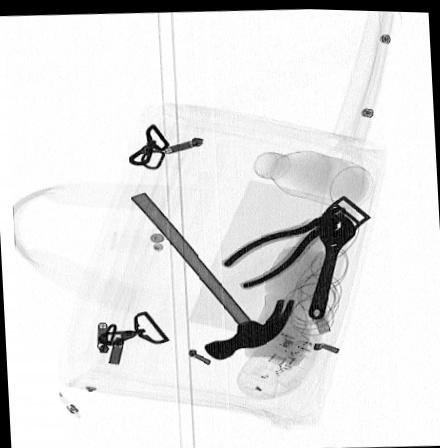Hammer: (127, 189, 300, 359)
Pliers: (217, 206, 337, 288)
Wrench: (310, 209, 355, 318)
